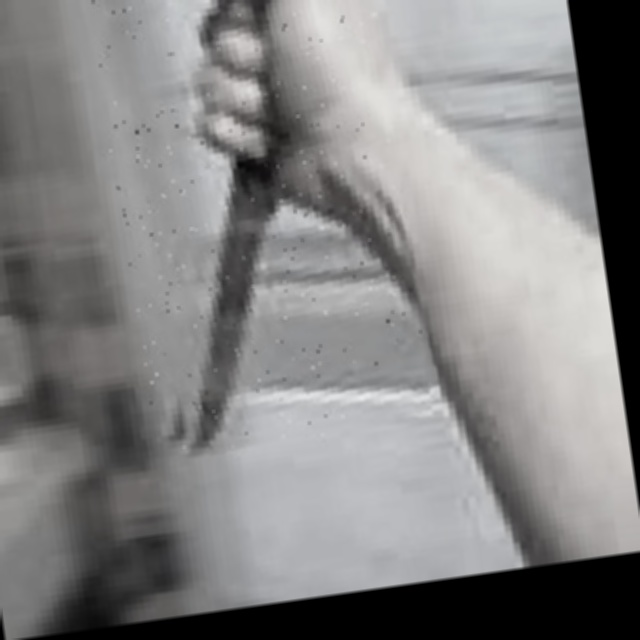Sharp-Object: (85, 0, 433, 458)
